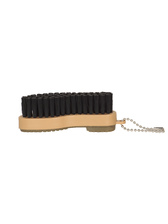other: (14, 93, 166, 145)
